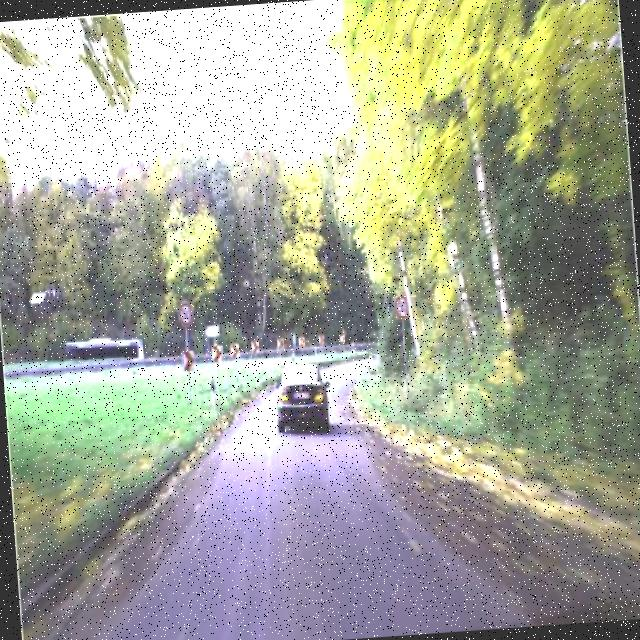Ograniczenie predkosci do 50: (176, 299, 194, 329), (392, 295, 410, 322)
